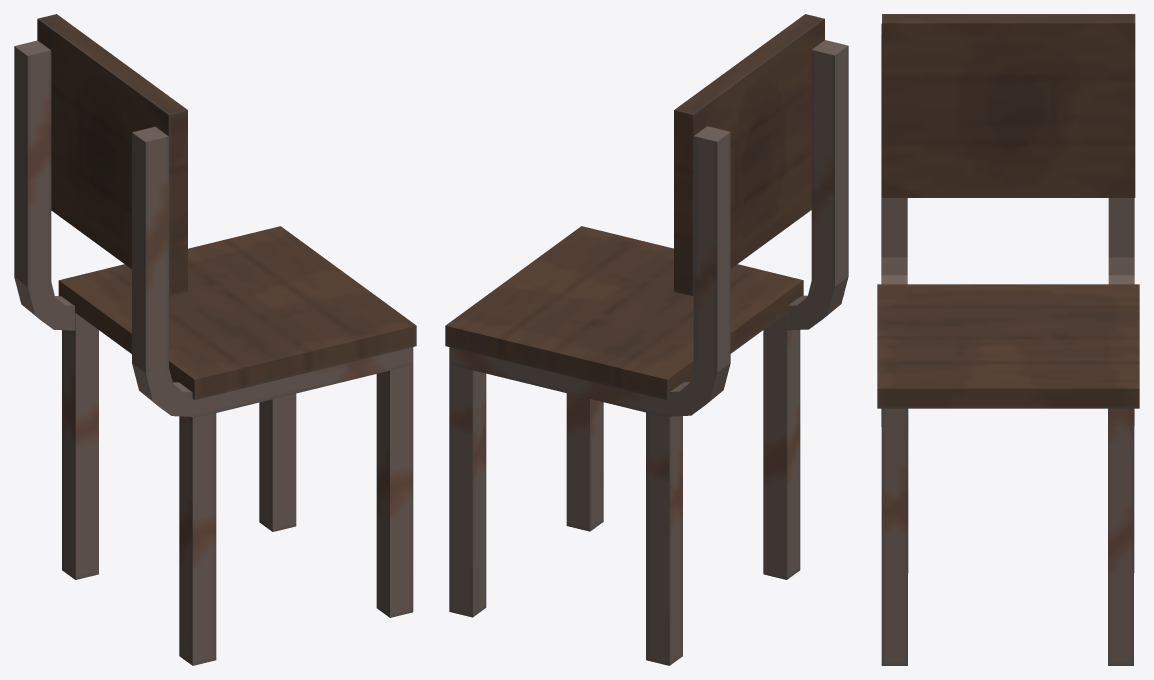
The model's file is obj_chair.fbx.
The picture shows the model from 3 angles, left to right: view 1: azimuth 30°, elevation 25°; view 2: azimuth 150°, elevation 25°; view 3: azimuth 270°, elevation 25°; orthographic projection. The views are drawn at different scales.
Visible parts, largest first — view 1: obj_chair; view 2: obj_chair; view 3: obj_chair.
Boxes of the visible parts, box(x1,y1,x2,y2) form: obj_chair: box(14, 14, 416, 665); obj_chair: box(445, 14, 848, 665); obj_chair: box(877, 14, 1139, 665).
Bounding box in the file's own units: 51.22 × 101 × 44.85.
